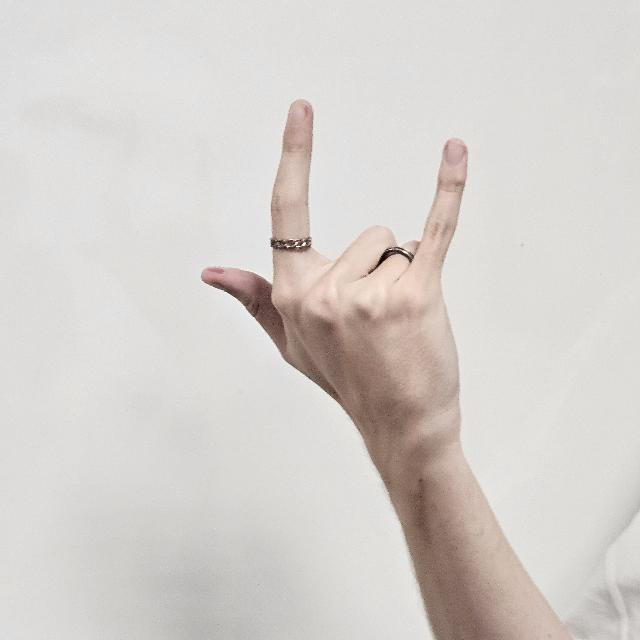Cima: (200, 97, 472, 505)
